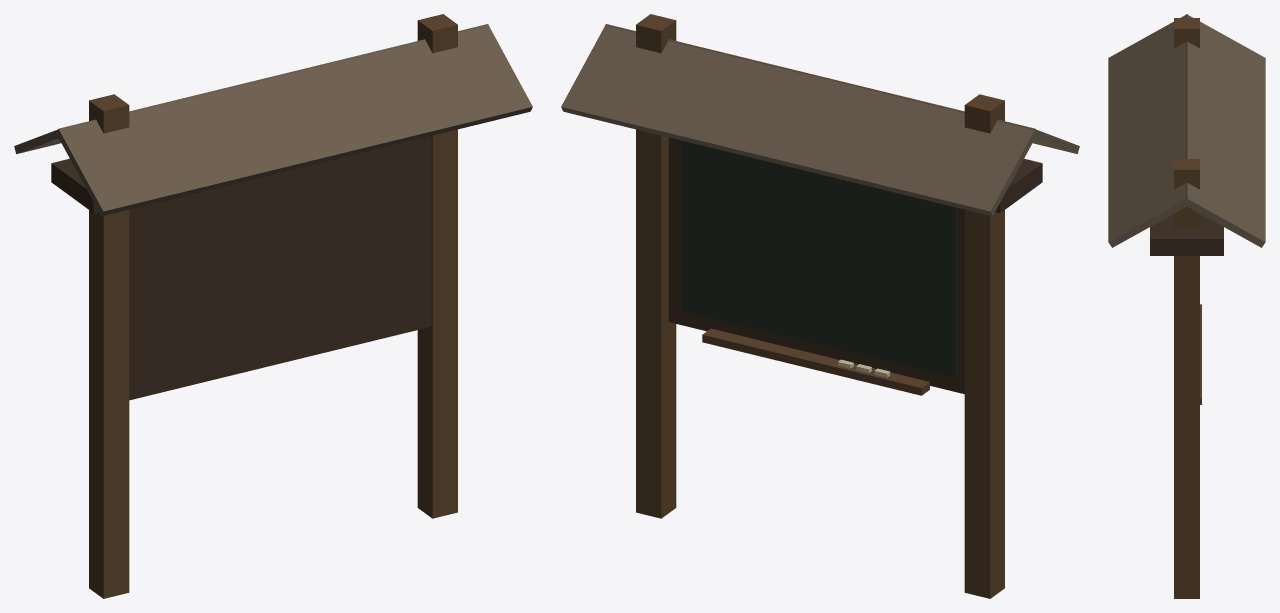
File: CutBoard.glb
3 views of the same model, side by side, from view 1: azimuth 30°, elevation 25°; view 2: azimuth 150°, elevation 25°; view 3: azimuth 270°, elevation 25° (orthographic). The views are drawn at different scales.
Parts seen in each view (by area): view 1: CutBoard; view 2: CutBoard; view 3: CutBoard.
Part boxes in pixels (x1,y1,x2,y2): CutBoard: [14, 14, 532, 598]; CutBoard: [561, 14, 1079, 598]; CutBoard: [1108, 14, 1265, 598].
Bounding box in the file's own units: 2.35 × 2.55 × 0.8472.
